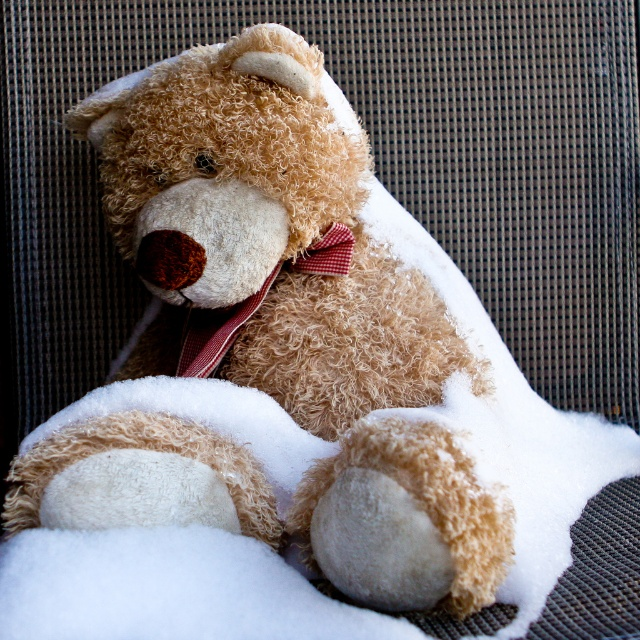Bear: (0, 23, 517, 622)
